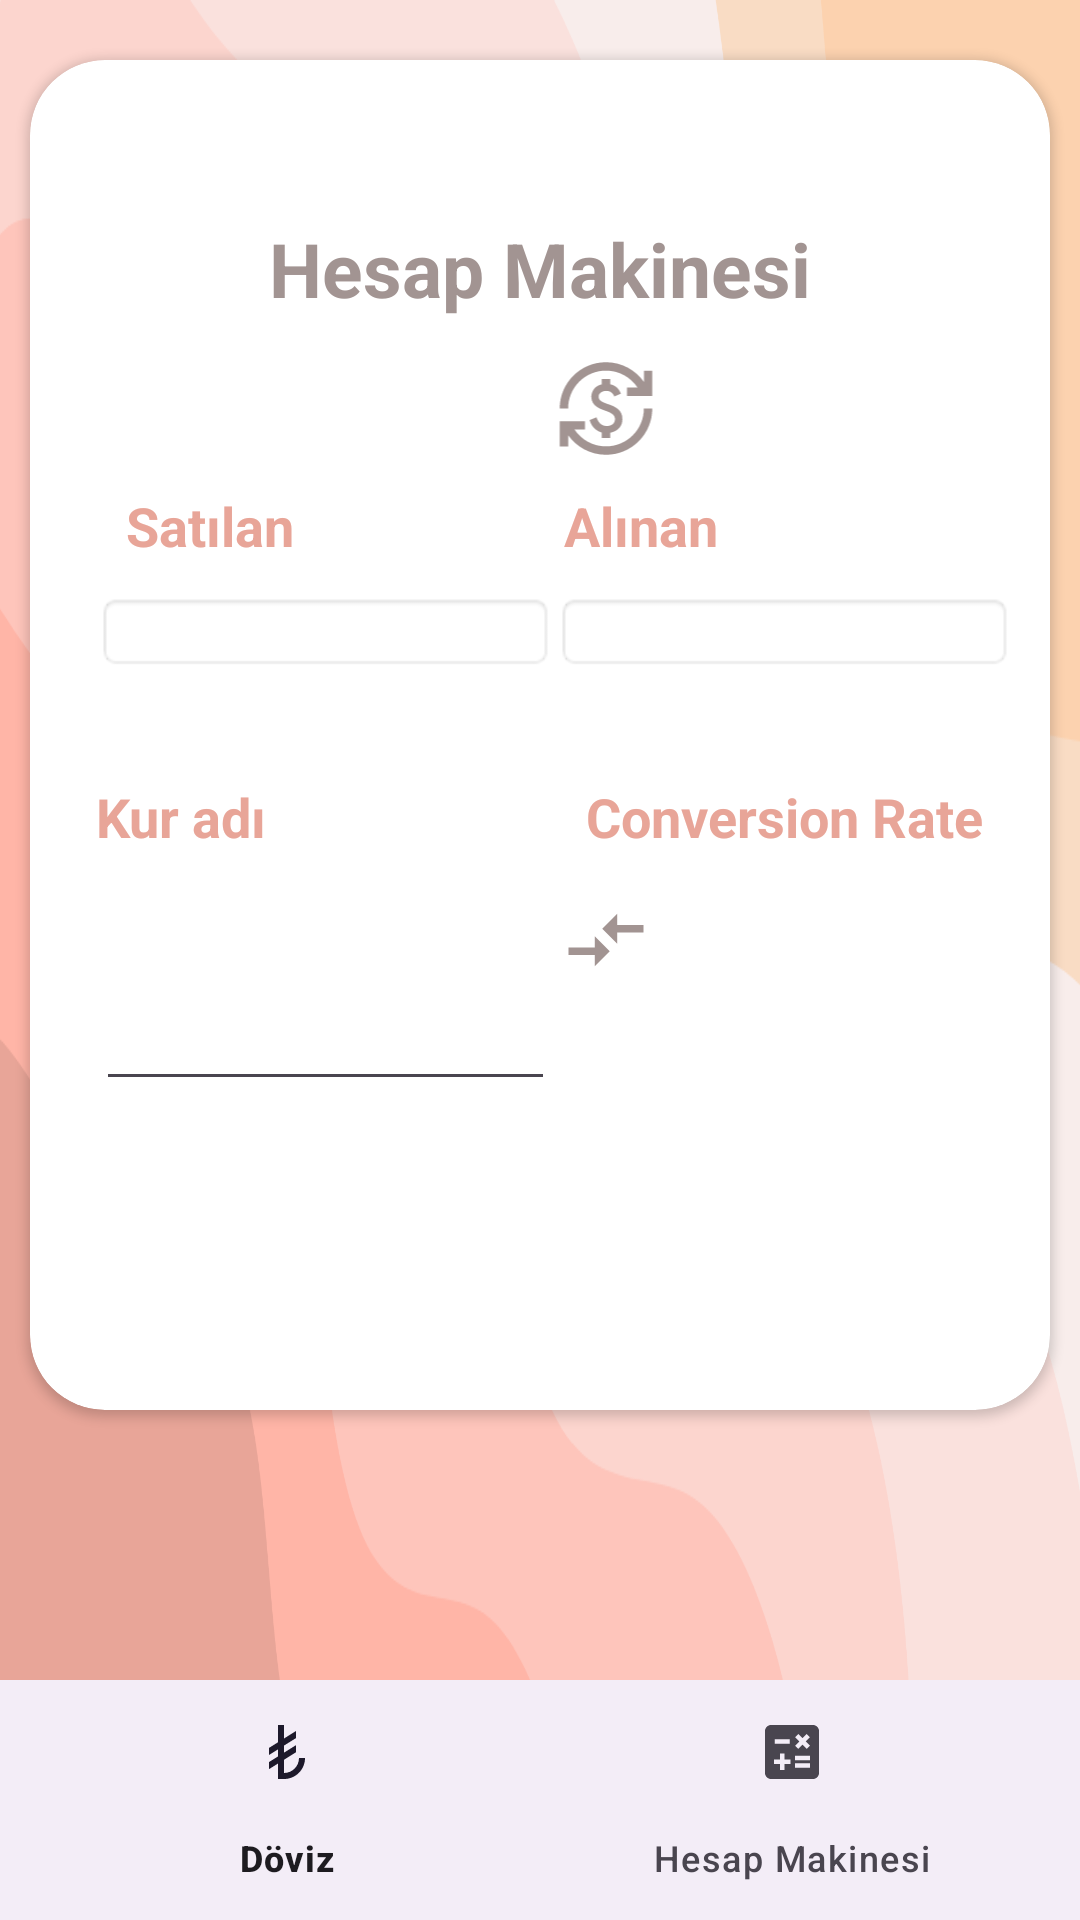

Icon bounding boxes for this 1080×1920 phone screenshot, format [x1=x1, y1=y1, x2=x2, y2=y2]:
compare arrows: [x1=568, y1=914, x2=644, y2=966]
exchange: [x1=559, y1=362, x2=653, y2=455]
